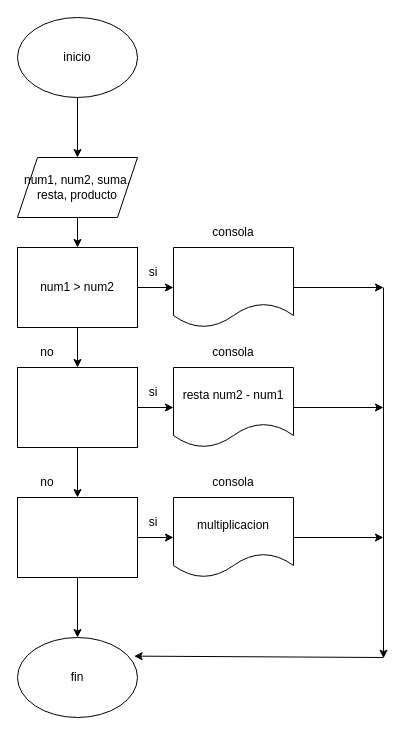
Image size: 409x735. Some labels were removed from this diagram. The shapes that lost their labels are listed below. From the top down, each one's centre as x and y in pixels, then its label:
pixel 233 287: suma
pixel 77 407: num1 < num2
pixel 77 537: num1=num2
